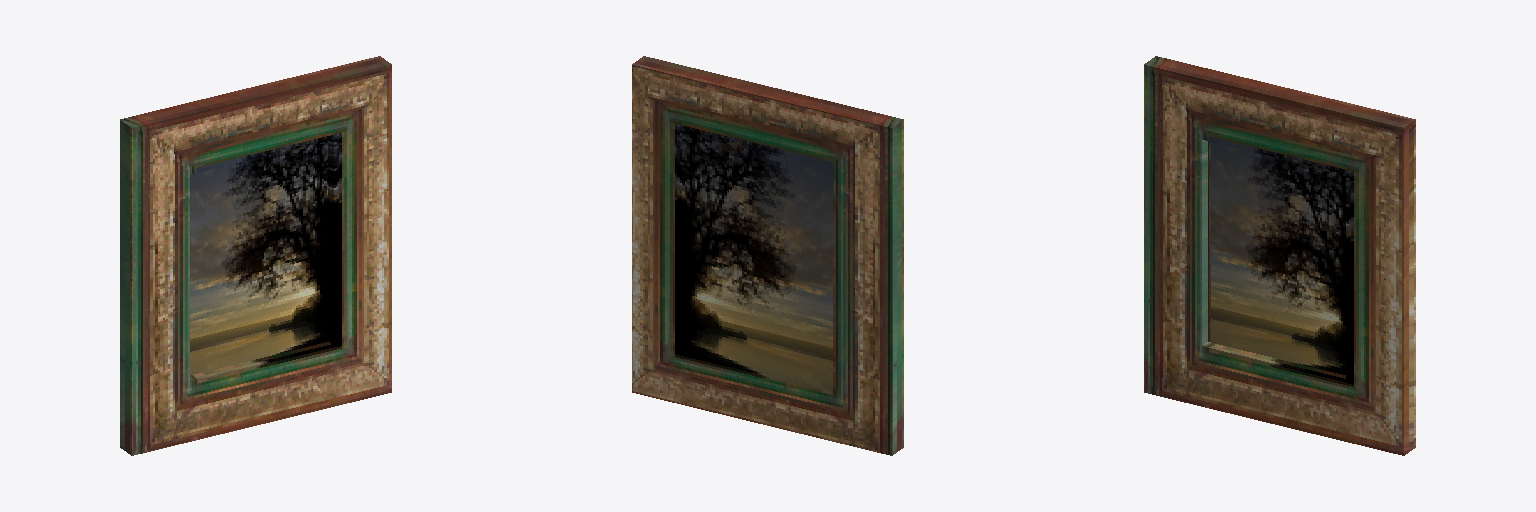
3 views of the same model, side by side, from view 1: azimuth 30°, elevation 25°; view 2: azimuth 150°, elevation 25°; view 3: azimuth 330°, elevation 25° (orthographic).
Parts seen in each view (by area): view 1: wallpicture4; view 2: wallpicture4; view 3: wallpicture4.
Boxes of the visible parts, <box> form: wallpicture4: <box>120,56,391,455</box>; wallpicture4: <box>632,56,903,455</box>; wallpicture4: <box>1144,56,1415,455</box>.
Size of the model in its own units: 0.781 by 0.9403 by 0.0621.
1 materials, 1 textured.